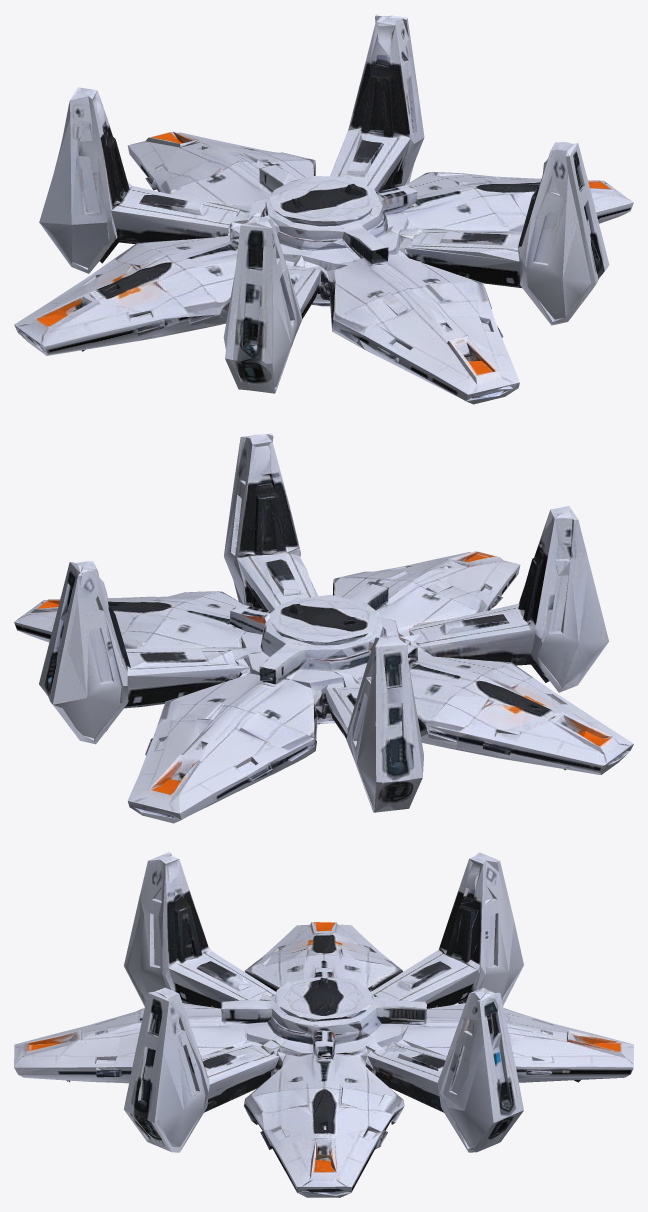
Rendered from nation-u-fortress.glb.
The picture shows the model from 3 angles, top to bottom: view 1: azimuth 30°, elevation 25°; view 2: azimuth 150°, elevation 25°; view 3: azimuth 270°, elevation 25°; orthographic projection. The views are drawn at different scales.
Size of the model in its own units: 1.89 by 0.5385 by 1.89.
Materials: 1 (1 with a texture image).
